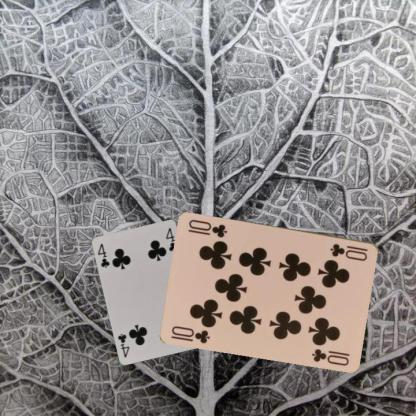10c: (170, 323, 212, 345), (328, 240, 369, 262)
4c: (95, 241, 111, 269)
